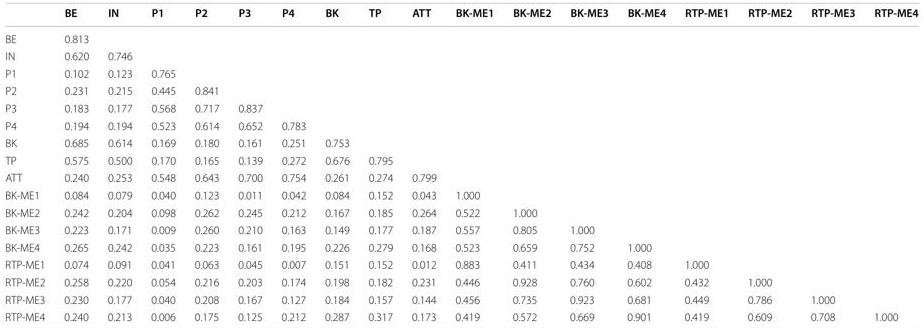table: (5, 5, 918, 323)
table column: (675, 5, 738, 323), (738, 5, 801, 323), (801, 5, 864, 323), (560, 5, 618, 323), (446, 5, 503, 323), (503, 5, 560, 323), (618, 5, 675, 323), (864, 5, 918, 323), (5, 5, 54, 323), (54, 5, 98, 323), (141, 5, 185, 323), (228, 5, 272, 323), (315, 5, 359, 323), (402, 5, 446, 323), (98, 5, 141, 323), (185, 5, 228, 323), (272, 5, 315, 323), (359, 5, 402, 323)
table column header: (5, 5, 918, 25)
table row: (5, 25, 918, 47), (5, 5, 918, 25), (5, 64, 918, 82), (5, 116, 918, 134), (5, 151, 918, 169), (5, 203, 918, 221), (5, 238, 918, 256), (5, 290, 918, 308), (5, 47, 918, 64), (5, 82, 918, 99), (5, 99, 918, 116), (5, 134, 918, 151), (5, 169, 918, 186), (5, 186, 918, 203), (5, 221, 918, 238), (5, 256, 918, 273), (5, 273, 918, 290), (5, 308, 918, 323)
